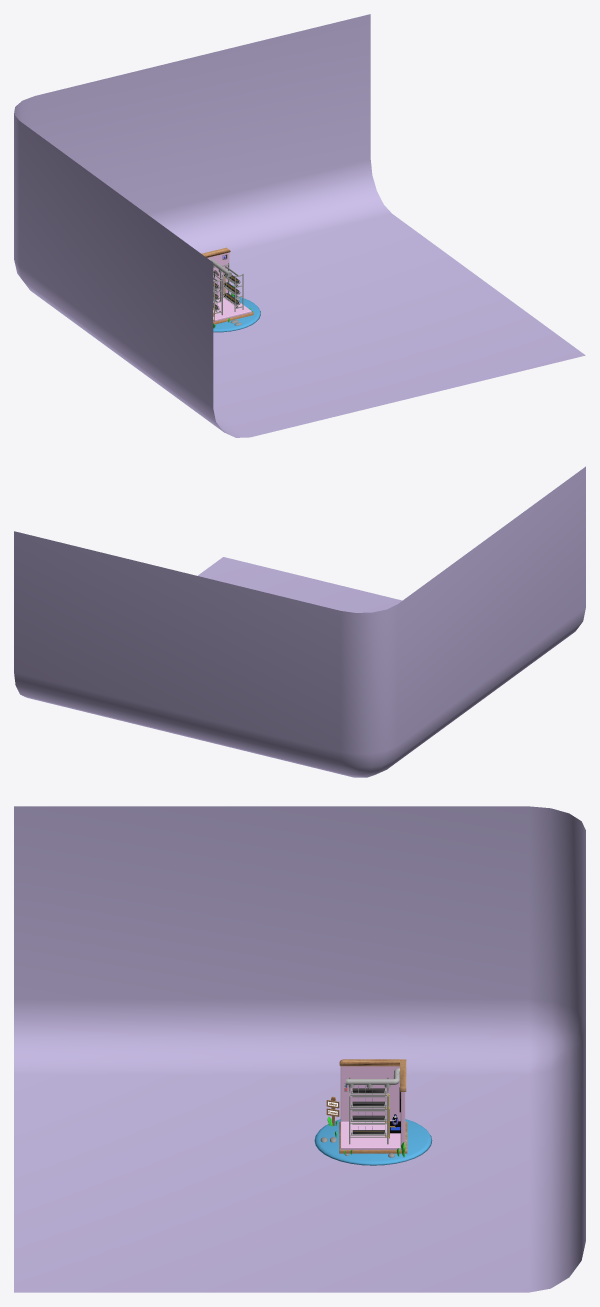
The model's file is FarmLab_WhiteRoom06_Trial.glb.
3 views of the same model, one above another, from view 1: azimuth 30°, elevation 25°; view 2: azimuth 150°, elevation 25°; view 3: azimuth 270°, elevation 25° (orthographic). The views are drawn at different scales.
Parts seen in each view (by area): view 1: BackGround, Room, Racks, Grass; view 2: BackGround; view 3: BackGround, Room, Grass, Racks, PlantBase.
Boxes of the visible parts, x1,y1,x2,y2 form: BackGround: (14,14,585,437); Room: (201,247,253,324); Racks: (213,263,243,316); Grass: (213,296,260,332); BackGround: (14,466,585,777); BackGround: (14,806,585,1292); Room: (339,1059,407,1153); Grass: (314,1119,432,1165); Racks: (349,1077,388,1144); PlantBase: (352,1088,384,1134).
Size of the model in its own units: 74.11 by 34.95 by 74.11.
Materials: 25 (2 with a texture image).
